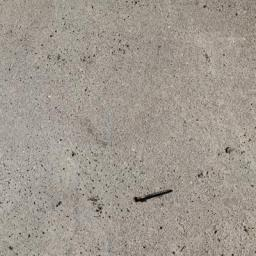FOD: (130, 188, 181, 204)
